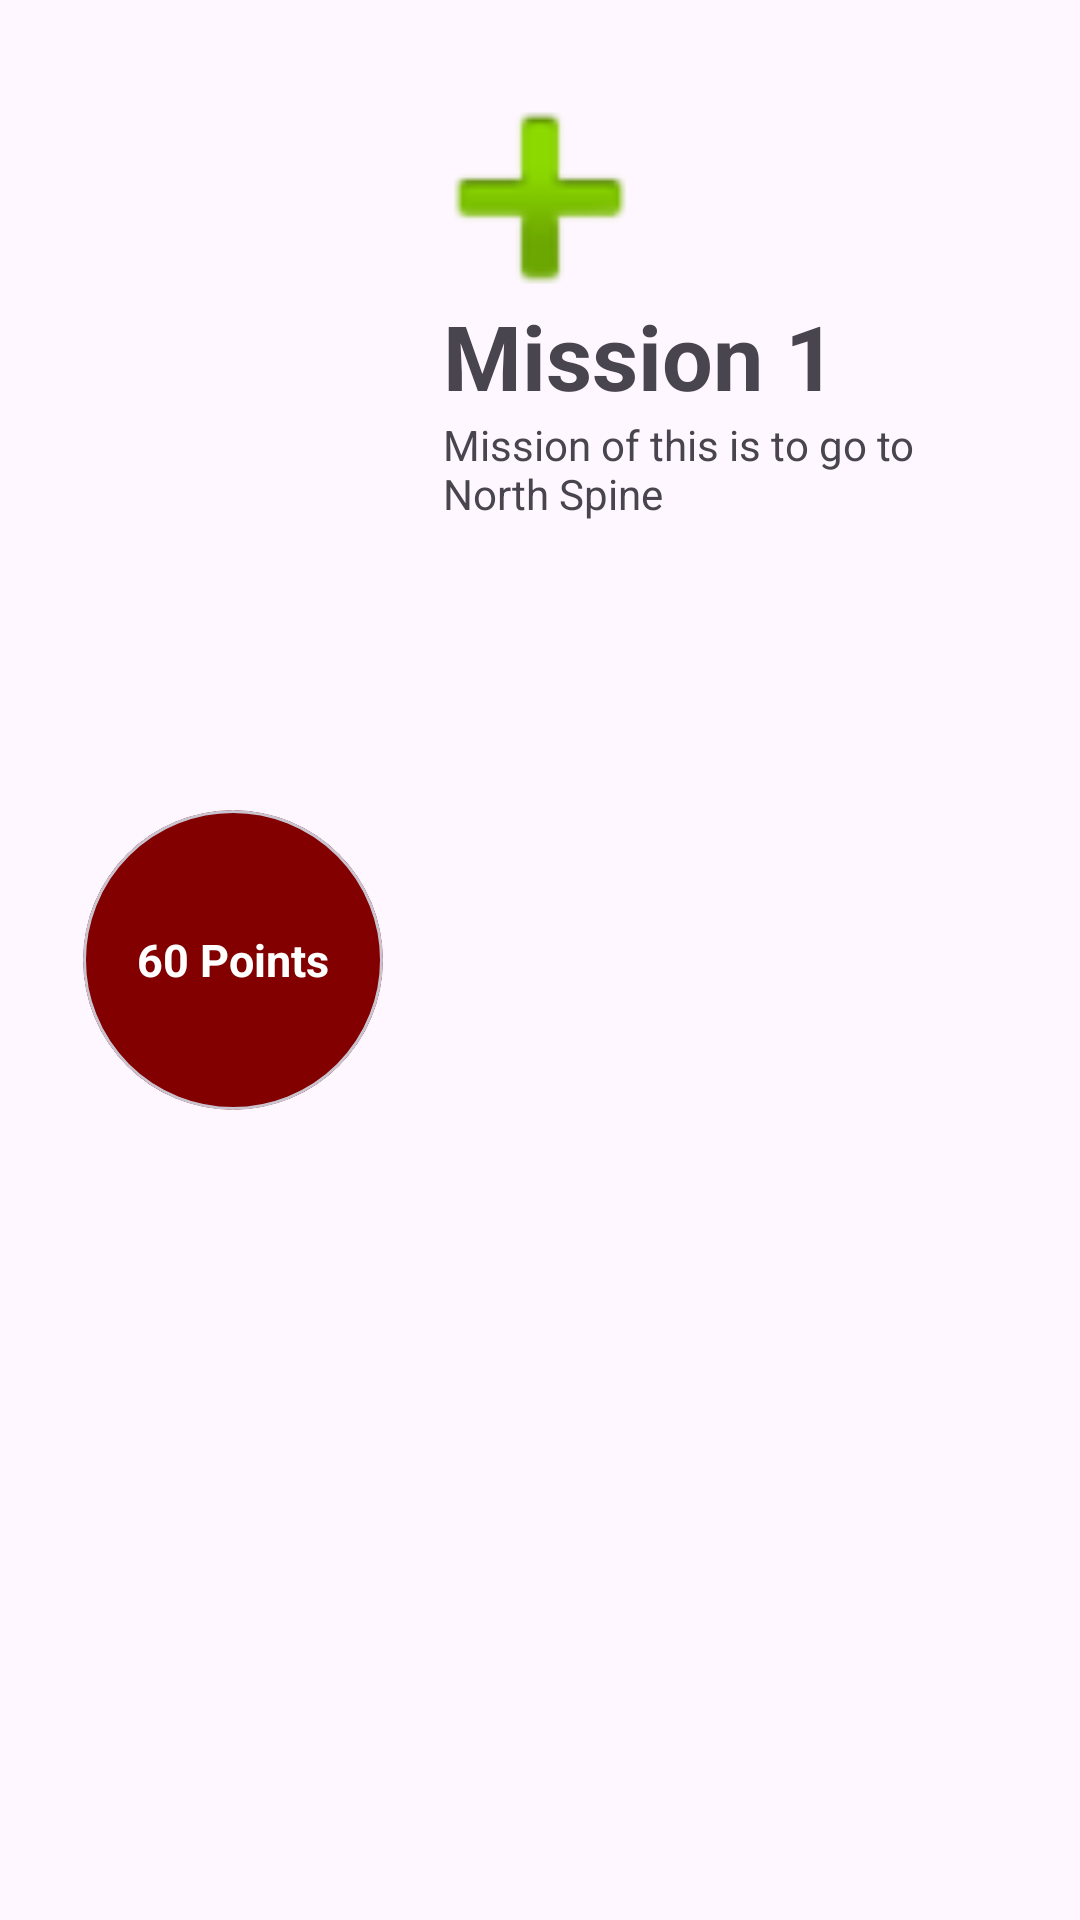

Icons on this 1080×1920 Android screen, each with the point to tap as [x,y]:
add: [555,225]
